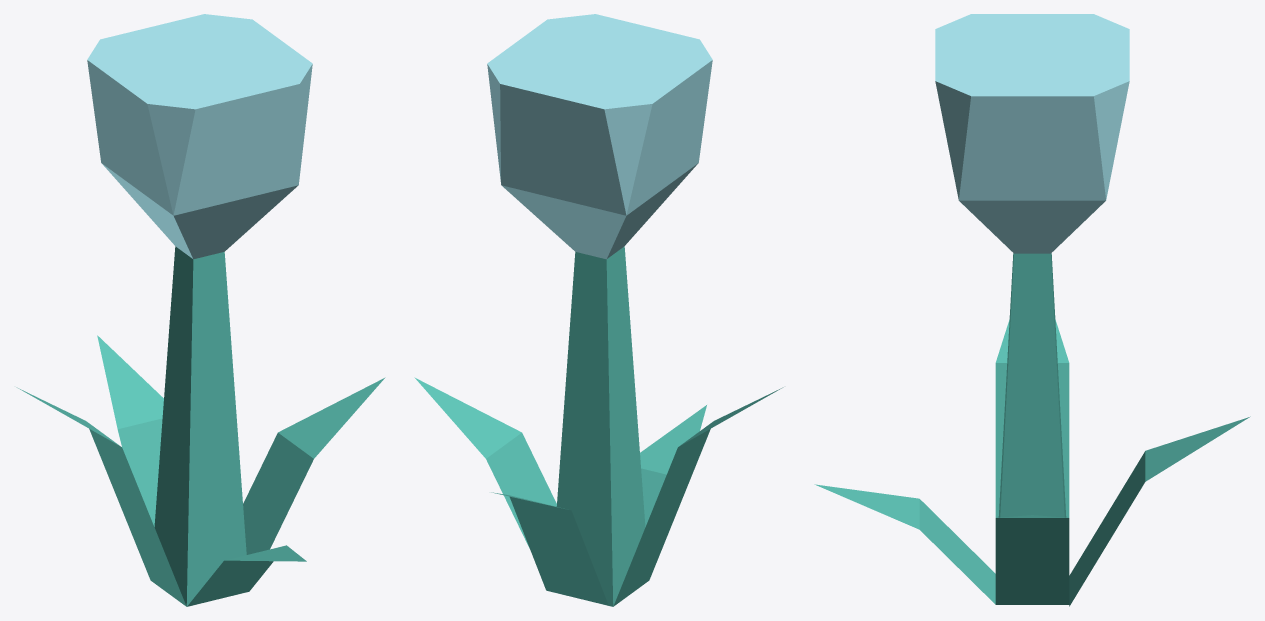
The model's file is flower_blue1.fbx.
3 views of the same model, side by side, from view 1: azimuth 30°, elevation 25°; view 2: azimuth 150°, elevation 25°; view 3: azimuth 270°, elevation 25° (orthographic).
Visible parts, largest first — view 1: flower_blue1; view 2: flower_blue1; view 3: flower_blue1.
Boxes of the visible parts, x1,y1,x2,y2 form: flower_blue1: [16, 14, 385, 606]; flower_blue1: [414, 14, 783, 606]; flower_blue1: [814, 14, 1250, 606].
Size of the model in its own units: 2.08 by 2.8 by 2.08.
